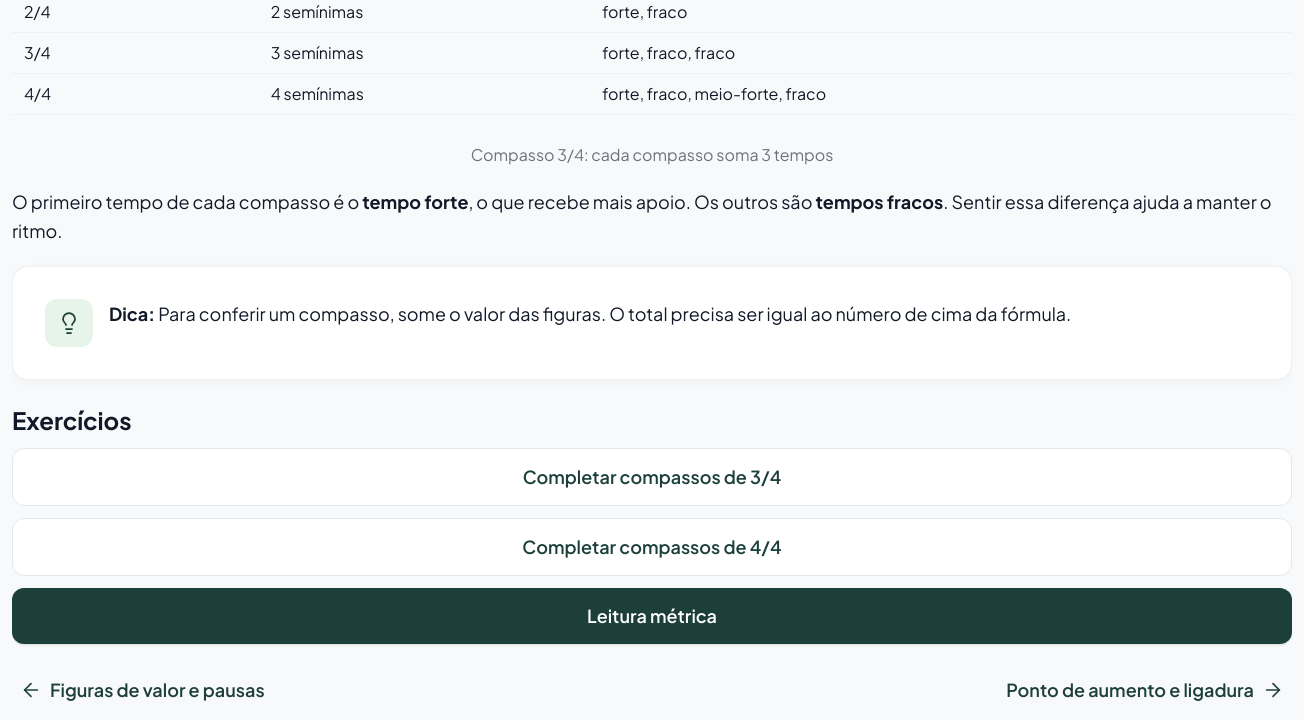
Scenario: telas de teoria › o botão do exercício abre /teoria/<lição>/exercicio/<exercício>
(page scrolled)
What coordinates should you click on to do the following:
click the button "Completar compassos de 3/4"
I would click on:
 (652, 476)
Its box is top-left (12, 448), bottom-right (1292, 506).
(page scrolled)
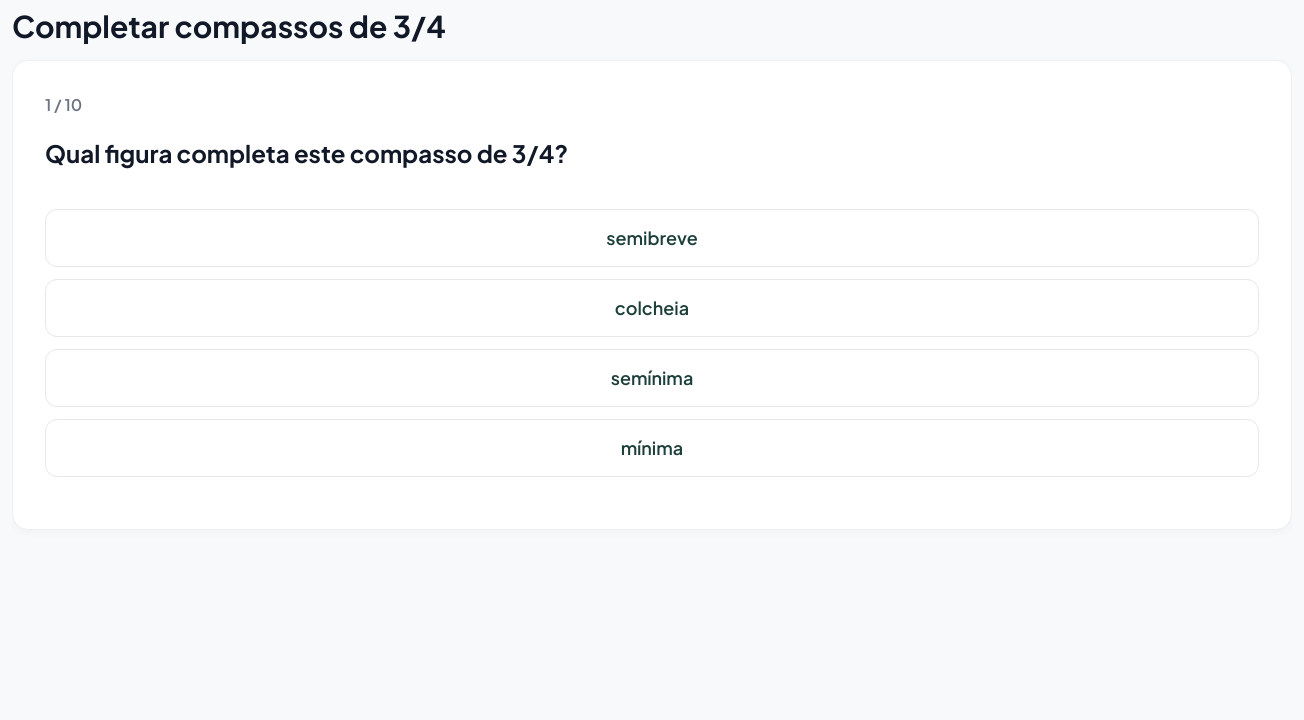
Result: the text "1 / 10" is shown at top-left (45, 94), bottom-right (82, 115)
